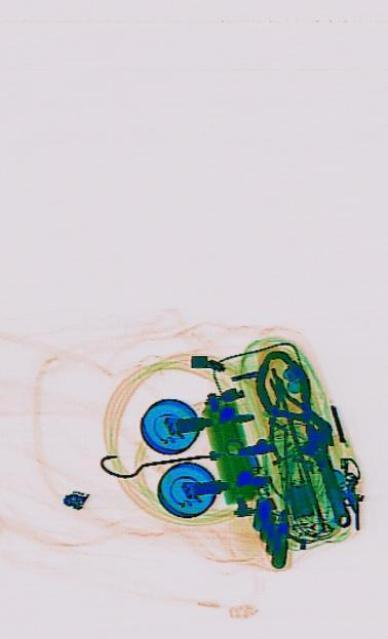Pliers: (244, 346, 327, 473)
Wrench: (291, 407, 358, 539)
